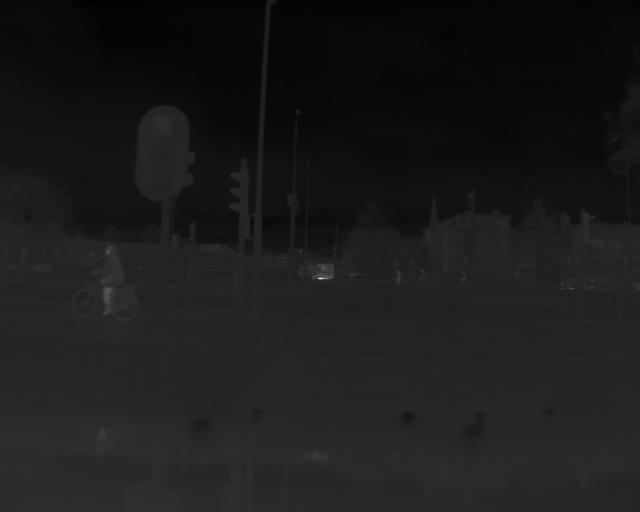person: (89, 244, 123, 317)
